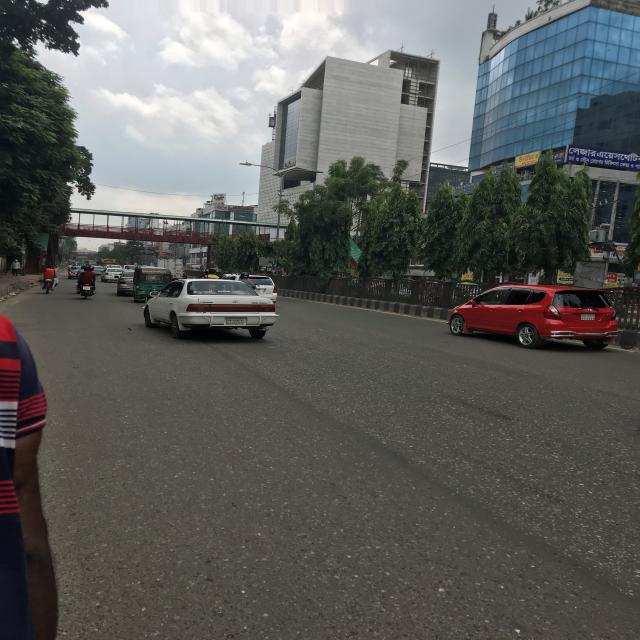red: (449, 280, 618, 351)
silver: (117, 270, 142, 296)
white: (141, 279, 278, 342), (219, 272, 281, 303), (101, 268, 125, 282)
